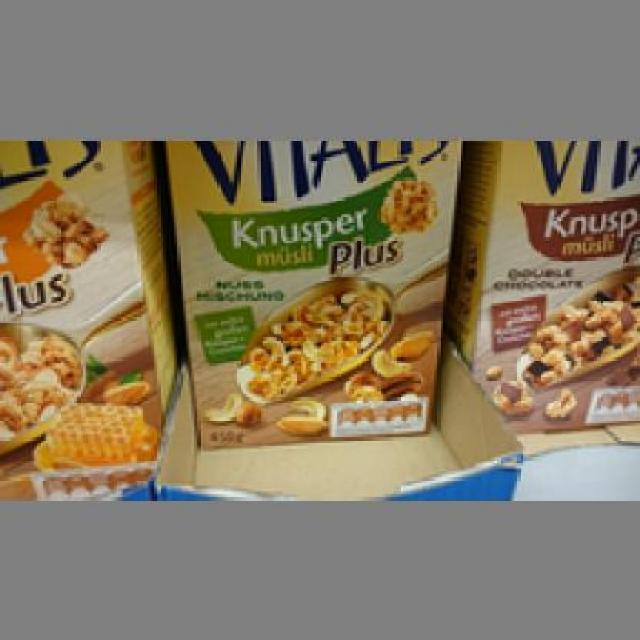Cereal: (160, 136, 460, 452), (0, 137, 166, 477), (462, 137, 638, 434)
